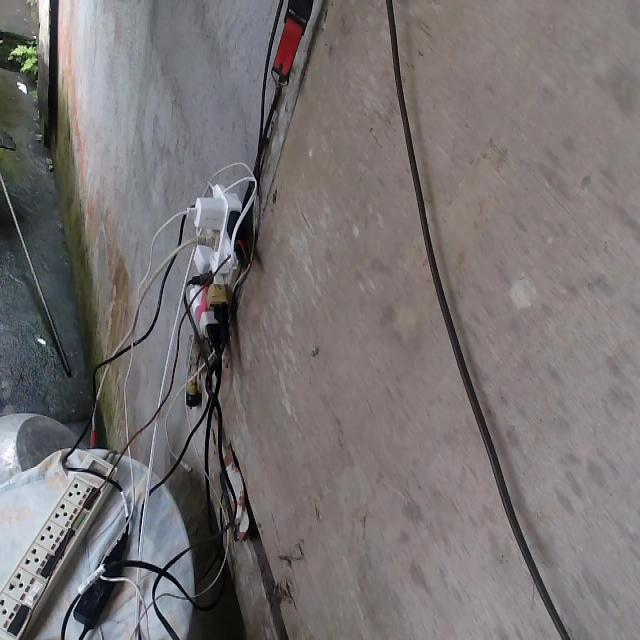-: (181, 178, 250, 366)
